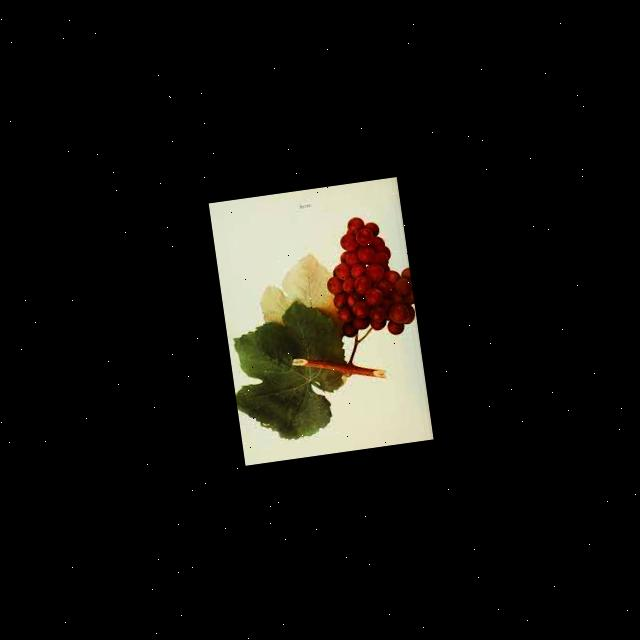grape: (318, 210, 418, 343)
